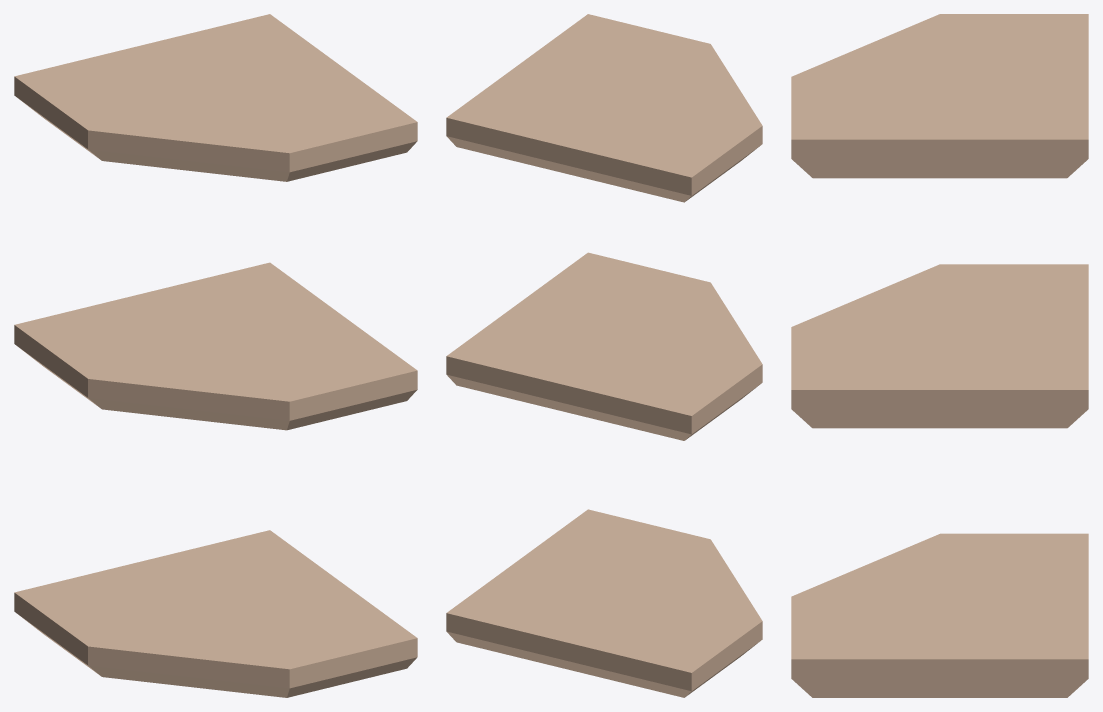
The model's file is Structure_Kitchen_Cabinet_Side_Shelves.fbx.
3 renders of one model, left to right at view 1: azimuth 30°, elevation 25°; view 2: azimuth 150°, elevation 25°; view 3: azimuth 270°, elevation 25°, orthographic. The views are drawn at different scales.
Parts seen in each view (by area): view 1: object1.088, object2.050, object3.039; view 2: object1.088, object2.050, object3.039; view 3: object2.050, object1.088, object3.039.
Boxes of the visible parts, x1,y1,x2,y2 form: object1.088: [14, 262, 417, 430]; object2.050: [14, 14, 417, 181]; object3.039: [14, 530, 417, 697]; object1.088: [446, 252, 762, 440]; object2.050: [446, 14, 762, 202]; object3.039: [446, 509, 762, 697]; object2.050: [791, 14, 1088, 178]; object1.088: [791, 264, 1088, 428]; object3.039: [791, 533, 1088, 697].
Bounding box in the file's own units: 35 × 72.5 × 35.
